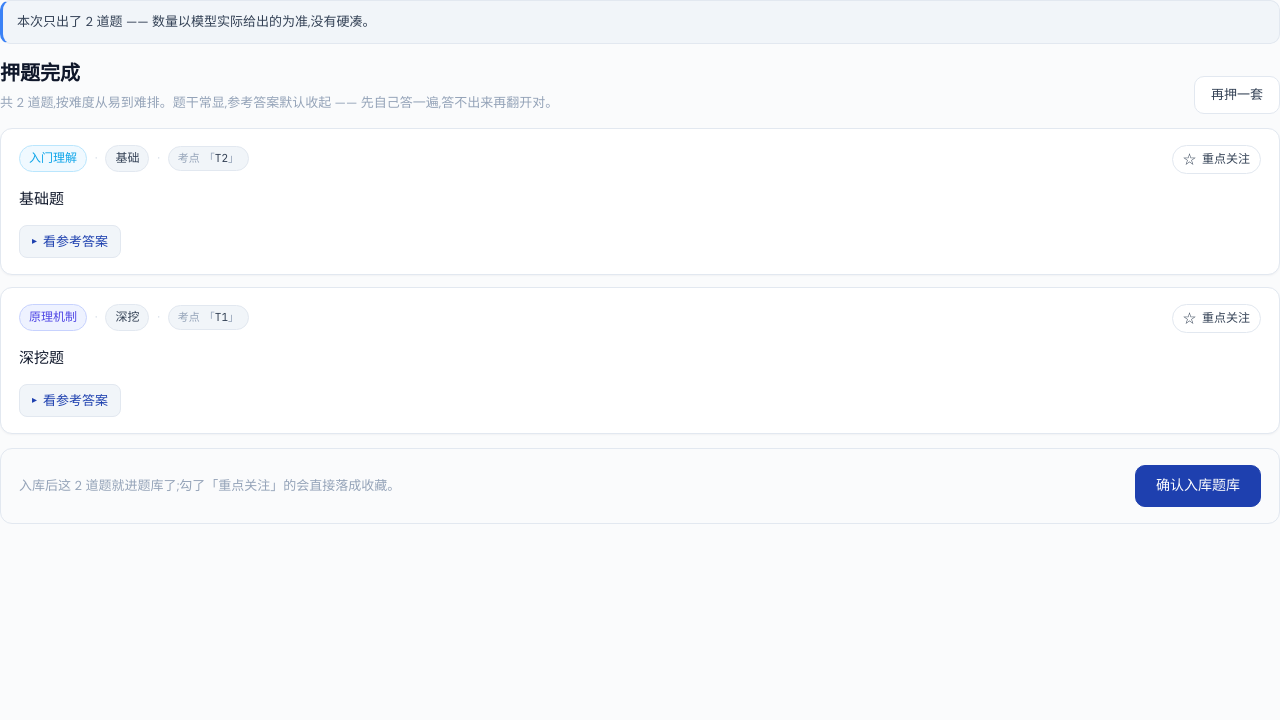
Test: 押题页确认入库 › 二次确认层如实显示入库题数与跳过的重复题数
Check: the heading "押题完成" is shown, box [0, 60, 80, 85]
Click the button "确认入库题库": (1198, 486) [1135, 465, 1261, 507]
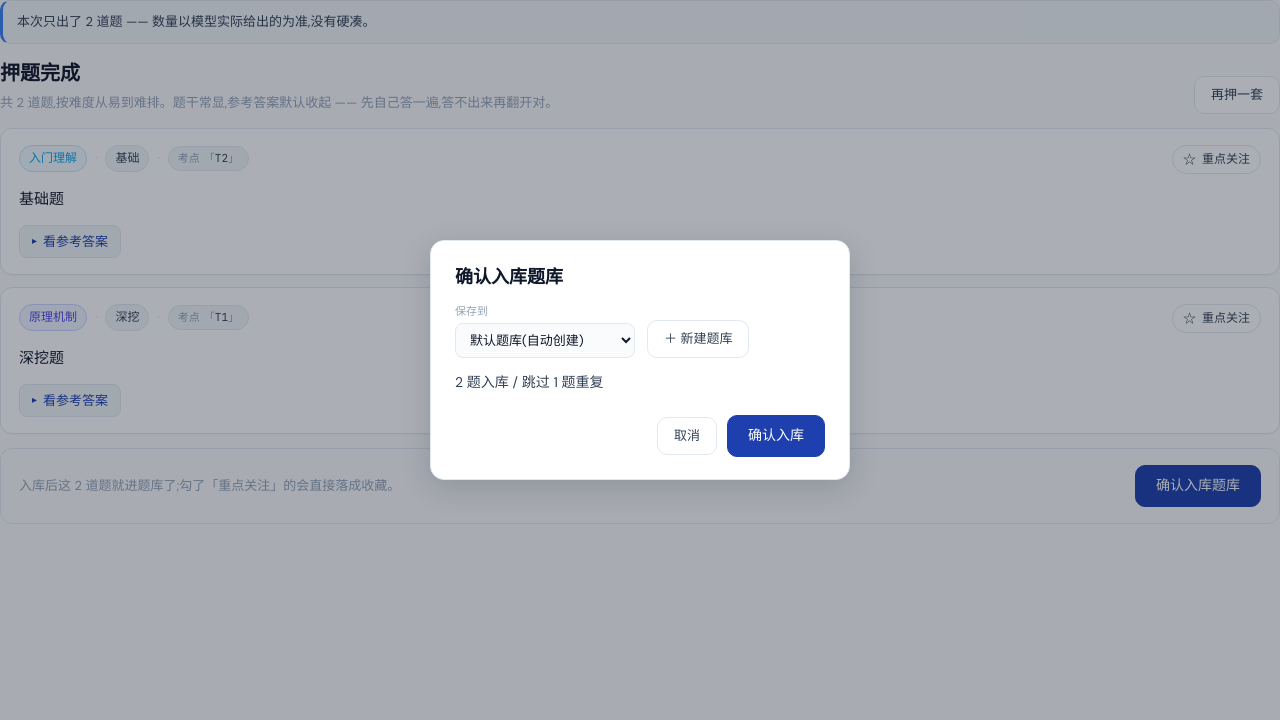
Check: the text "2 题入库 / 跳过 1 题重复" is shown, box [455, 373, 604, 391]
Check: the button "确认入库" is shown, box [727, 416, 825, 457]
Check: the button "取消" is shown, box [657, 417, 717, 455]
